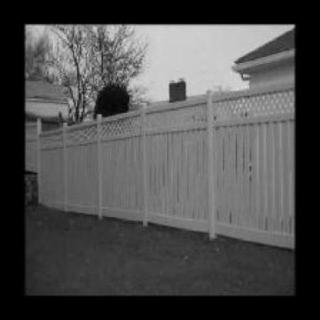other: (230, 79, 249, 113)
